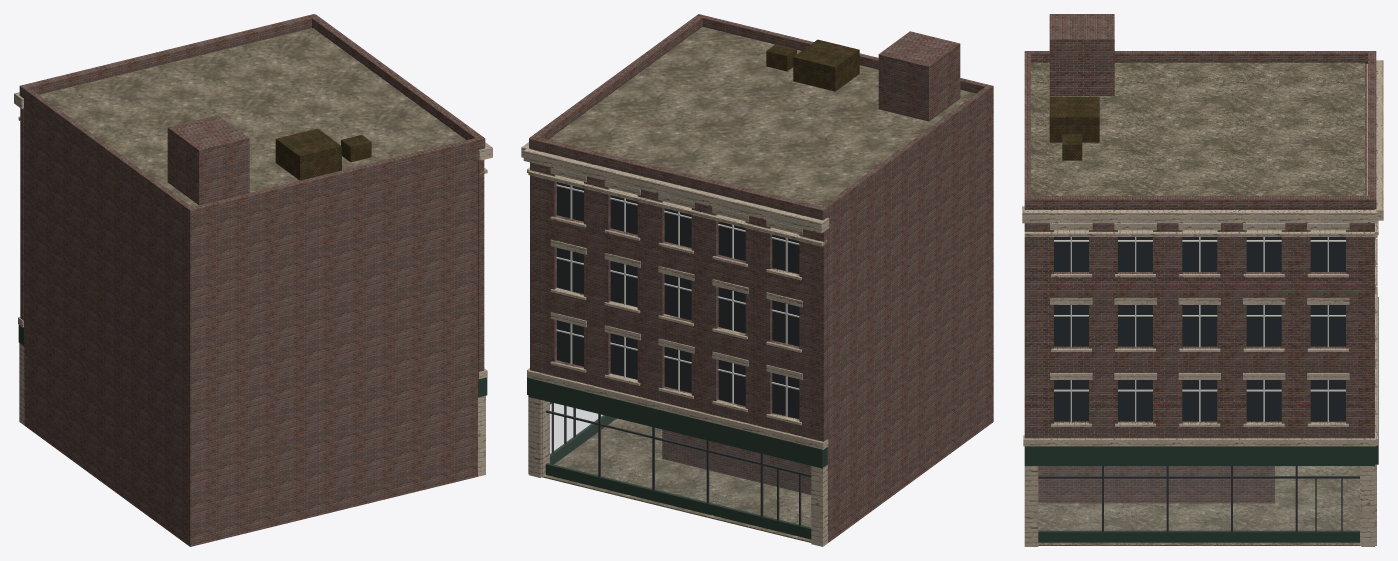
File: bldg_corner_4st.gltf
3 views of the same model, side by side, from view 1: azimuth 30°, elevation 25°; view 2: azimuth 150°, elevation 25°; view 3: azimuth 270°, elevation 25° (orthographic). The views are drawn at different scales.
Parts seen in each view (by area): view 1: bldg_corner_4st; view 2: bldg_corner_4st; view 3: bldg_corner_4st.
Part boxes in pixels (box(x1,y1,x2,y2)): bldg_corner_4st: box(14, 14, 492, 546); bldg_corner_4st: box(521, 14, 993, 546); bldg_corner_4st: box(1022, 14, 1383, 546).
Size of what is drawn, in the model's own units: 14.45 by 17.42 by 14.45.
Materials: 9 (4 with a texture image).
